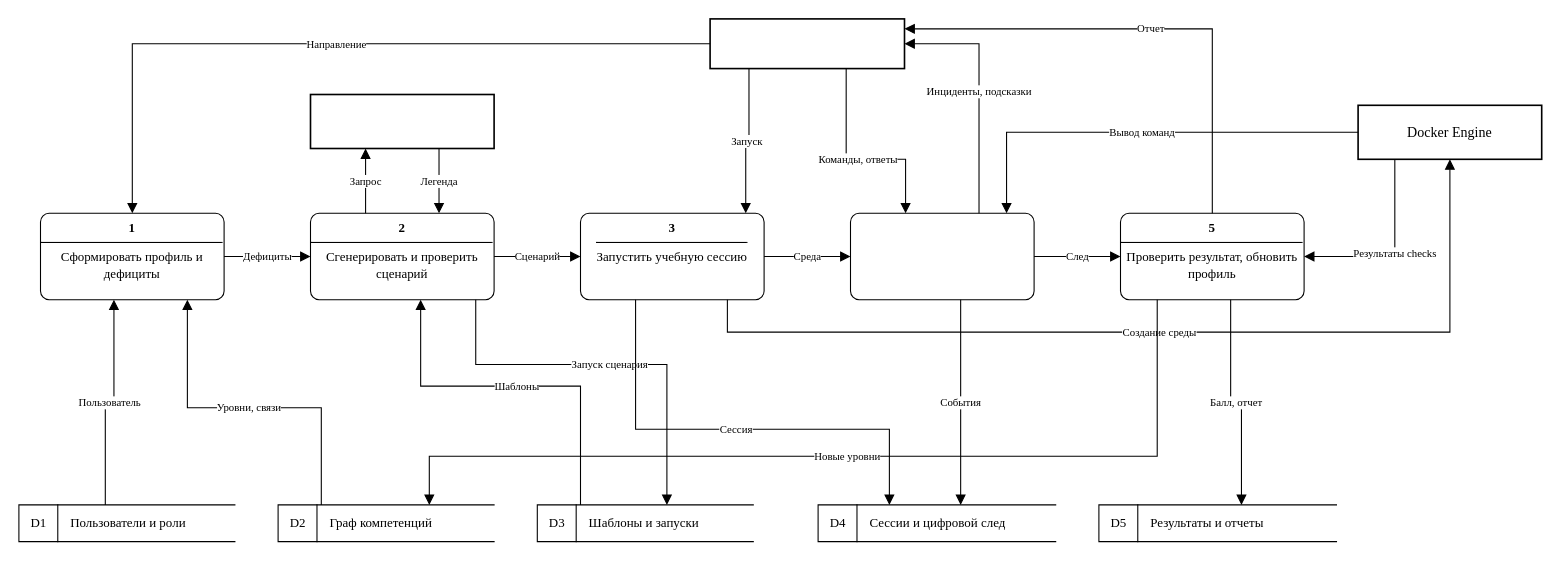
Image size: 1562x562. Some labels were removed from this diagram. The centre of each missing label's shape, as x and y in pixels:
4 Сопроводить выполнение: point (941, 256)
LLM-провайдер: point (401, 121)
Обучающийся: point (807, 43)
